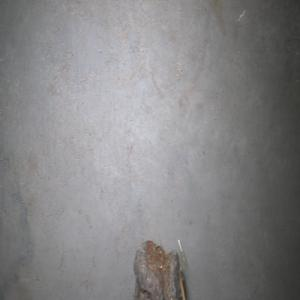Rock: (132, 237, 186, 300)
